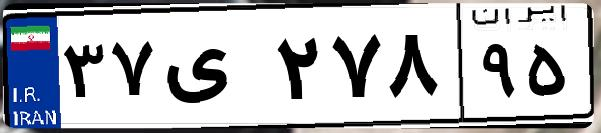2: (270, 28, 330, 110)
3: (57, 26, 110, 100)
5: (525, 38, 570, 115)
7: (330, 28, 385, 110), (110, 28, 158, 98)
8: (385, 28, 445, 110)
9: (475, 38, 525, 113)
ی: (158, 20, 270, 120)
